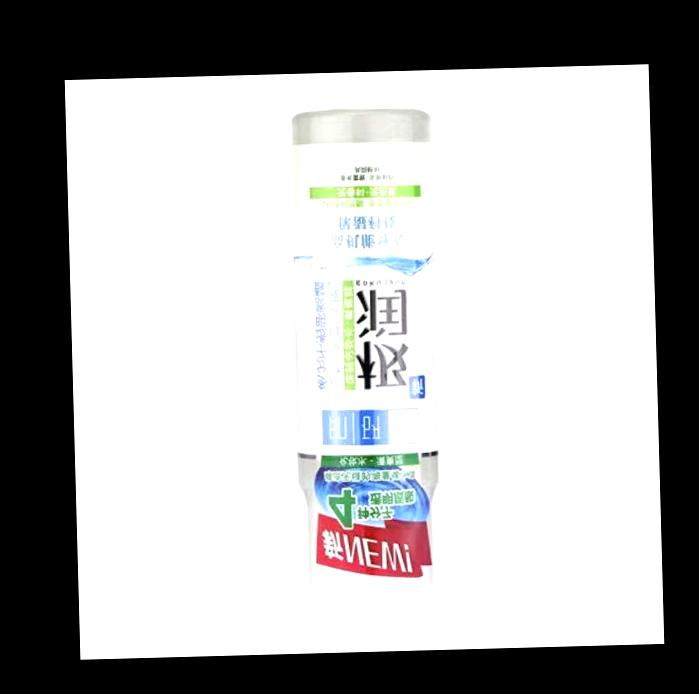cosmetic: (288, 116, 438, 605)
